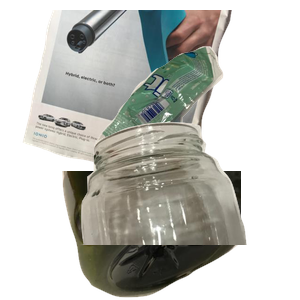glass: (74, 120, 300, 300)
paper: (20, 10, 244, 190)
plastic: (60, 171, 300, 300)
trash: (92, 44, 300, 211)
